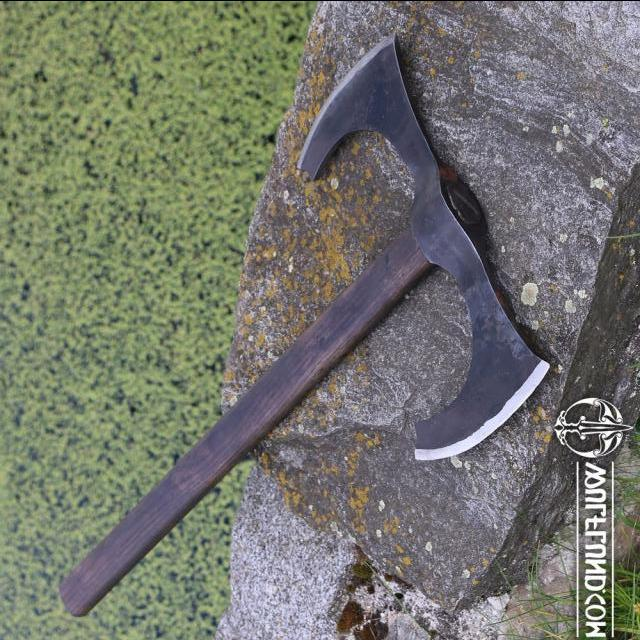axe: (61, 32, 552, 620)
